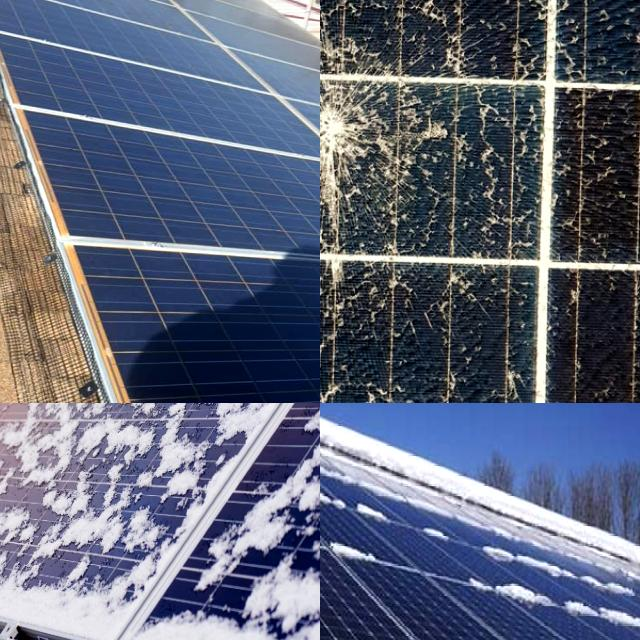crack: (0, 95, 320, 290), (0, 21, 320, 185), (53, 230, 320, 403), (0, 0, 285, 100), (0, 0, 241, 58)
hotspot: (320, 68, 431, 232)
panel: (0, 541, 126, 640), (98, 464, 204, 557), (480, 580, 640, 640), (258, 475, 320, 629), (320, 404, 427, 488), (418, 500, 565, 560), (189, 518, 257, 624), (207, 403, 305, 475), (0, 416, 80, 494), (100, 403, 205, 459), (0, 505, 54, 611), (24, 507, 114, 562), (0, 432, 55, 518), (140, 607, 276, 640), (5, 403, 107, 440), (62, 403, 151, 443), (320, 594, 388, 640), (0, 436, 42, 509), (0, 509, 40, 583), (320, 412, 366, 469), (0, 403, 51, 452), (68, 403, 160, 429), (324, 533, 386, 569), (164, 403, 264, 424), (0, 403, 42, 449), (178, 403, 248, 429), (320, 506, 361, 547), (0, 523, 34, 569), (0, 403, 53, 429), (383, 630, 440, 640)
